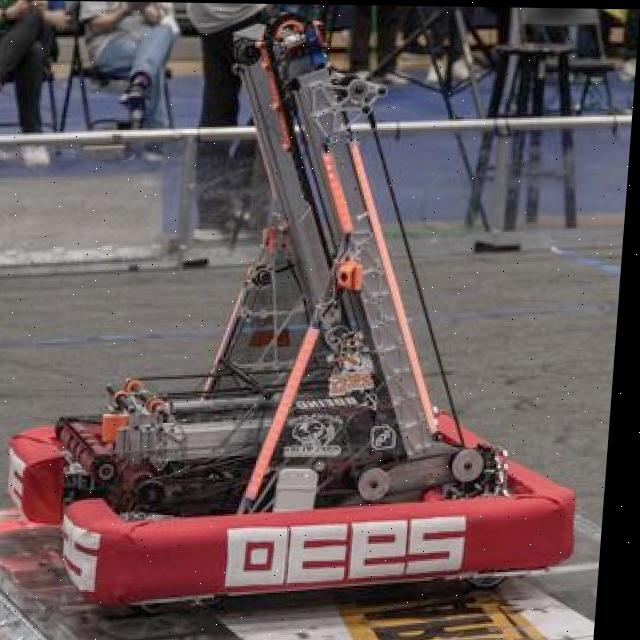robot: (3, 0, 620, 613)
